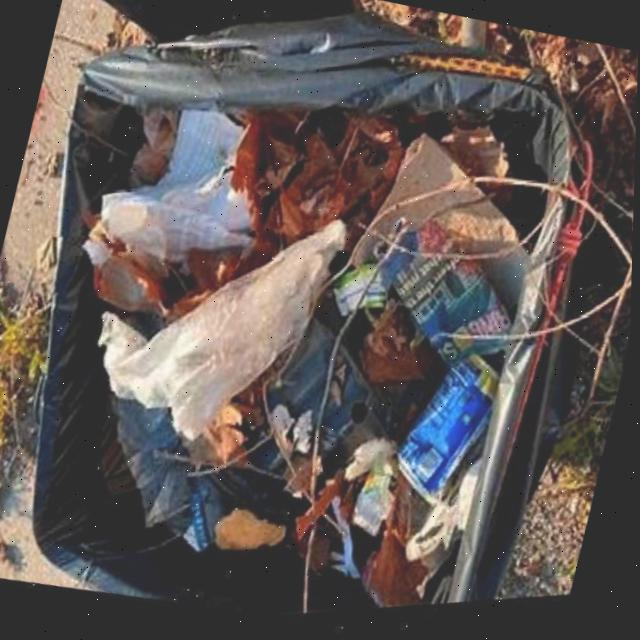Garbage: (83, 113, 525, 610)
Metal: (318, 351, 384, 488), (263, 304, 337, 422), (208, 443, 309, 529)
Plastic: (115, 402, 230, 554)
can: (397, 363, 497, 512)
